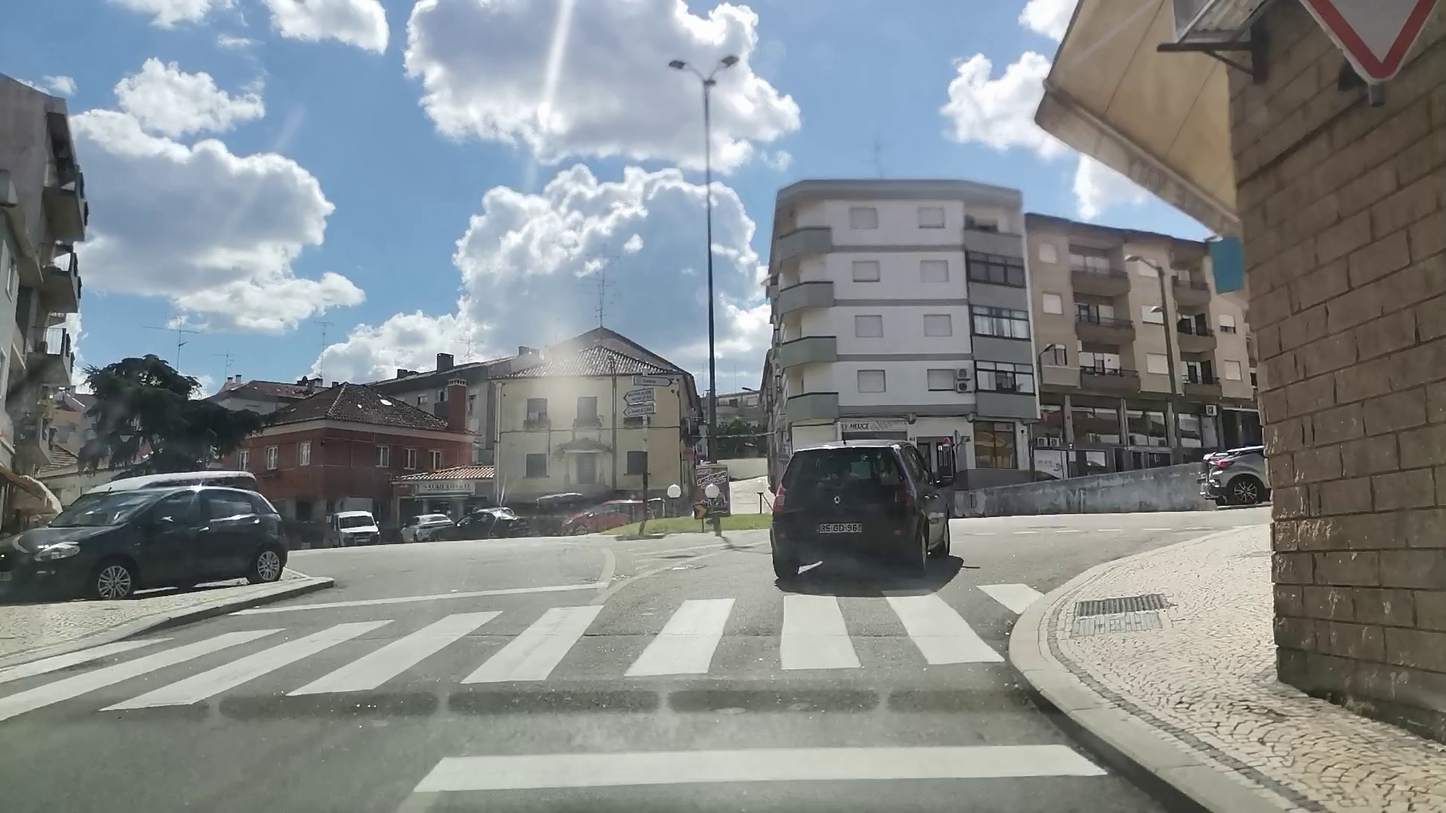Stairs: (11, 580, 1046, 725)
